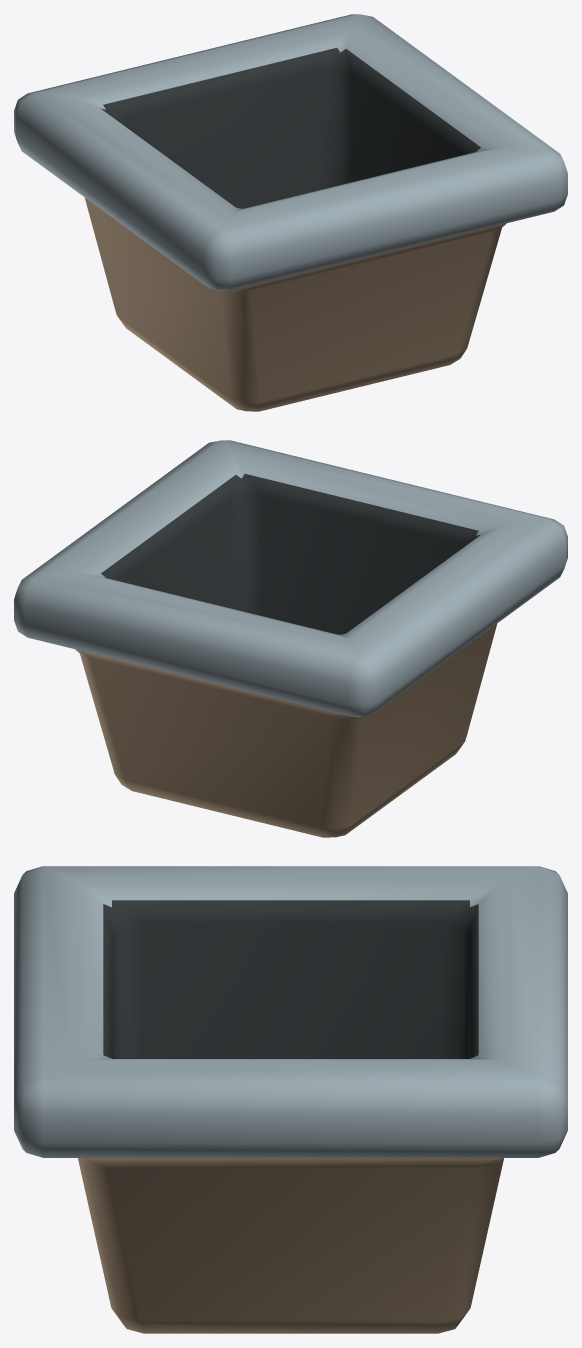
File: Trashcan.fbx
3 views of the same model, one above another, from view 1: azimuth 30°, elevation 25°; view 2: azimuth 150°, elevation 25°; view 3: azimuth 270°, elevation 25° (orthographic). The views are drawn at different scales.
Visible parts, largest first — view 1: Trashcan; view 2: Trashcan; view 3: Trashcan.
Boxes of the visible parts, x1=… form: Trashcan: x1=14, y1=14, x2=567, y2=411; Trashcan: x1=14, y1=440, x2=567, y2=837; Trashcan: x1=14, y1=866, x2=567, y2=1333.
Size of the model in its own units: 0.9464 by 0.563 by 0.9464.
Materials: 1 (1 with a texture image).
